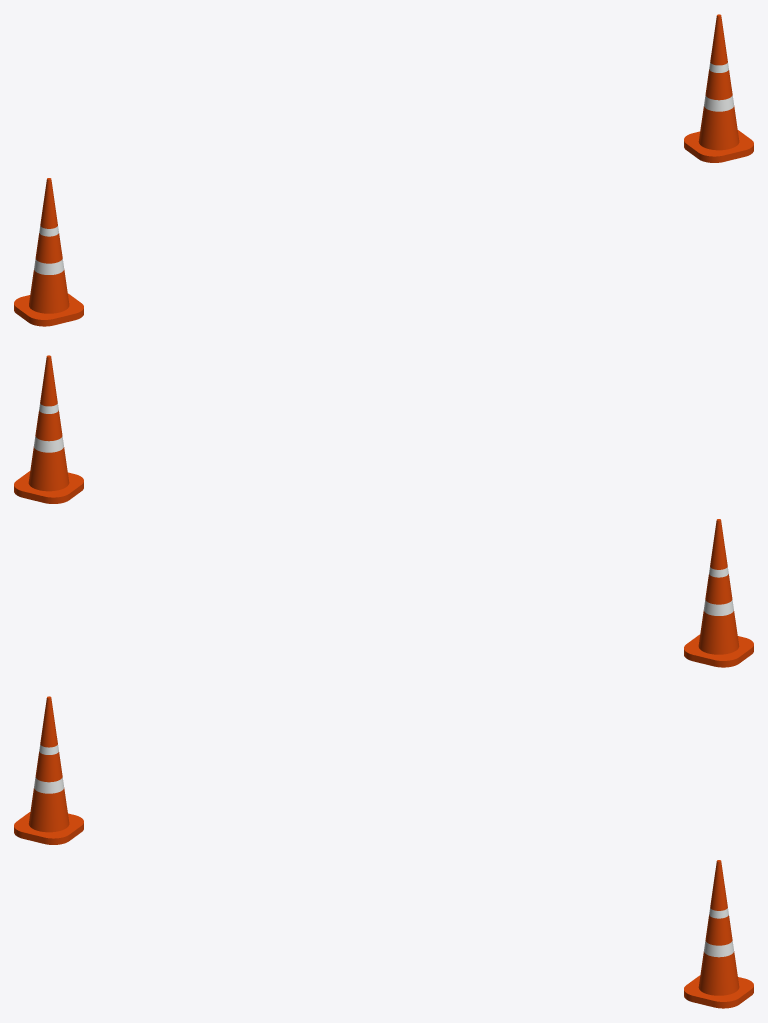
Rendered from Conos 5m.fbx.
3 views of the same model, one above another, from view 1: azimuth 30°, elevation 25°; view 2: azimuth 150°, elevation 25°; view 3: azimuth 330°, elevation 25° (orthographic).
Visible parts, largest first — view 1: Plane; view 2: Plane; view 3: Plane.
Part boxes in pixels (box(x1,y1,x2,y2)): Plane: box(14, 14, 753, 326); Plane: box(14, 355, 753, 667); Plane: box(14, 696, 753, 1008).
Bounding box in the file's own units: 540 × 94.76 × 39.55.
Materials: 2 (2 with a texture image).
